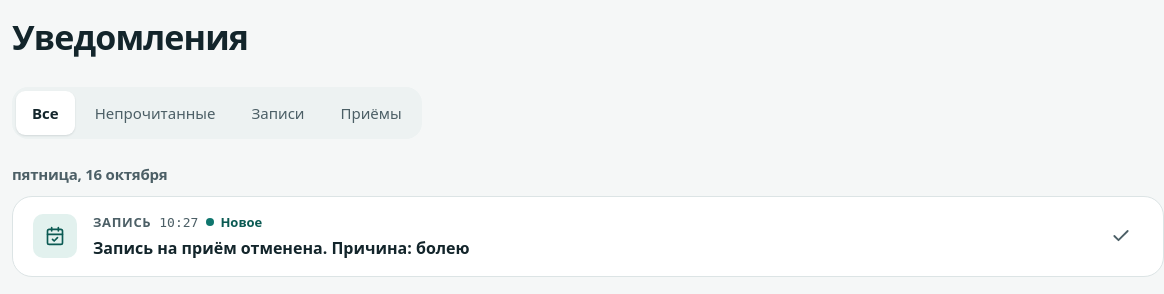
it: NotificationCenter › should keep the focus on the page and announce the empty list when the last unread notification is marked read
Click the tab "Непрочитанные" at x=155, y=113, box [79,91,231,135]
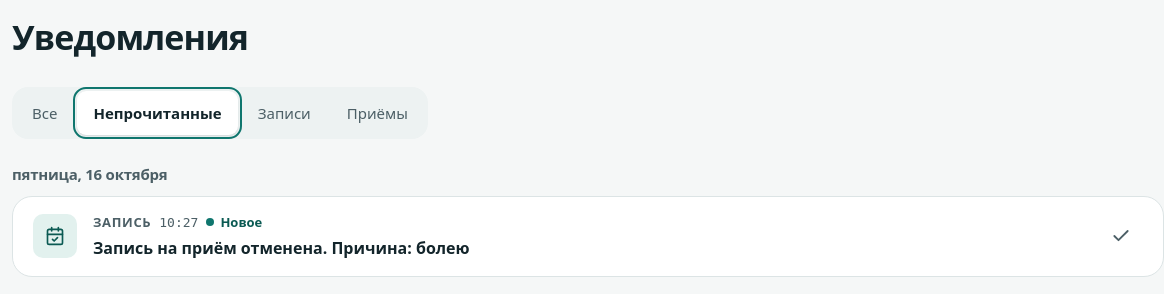
Click the button named "Отметить прочитанным" at x=1121, y=236, box [1099,214,1143,258]
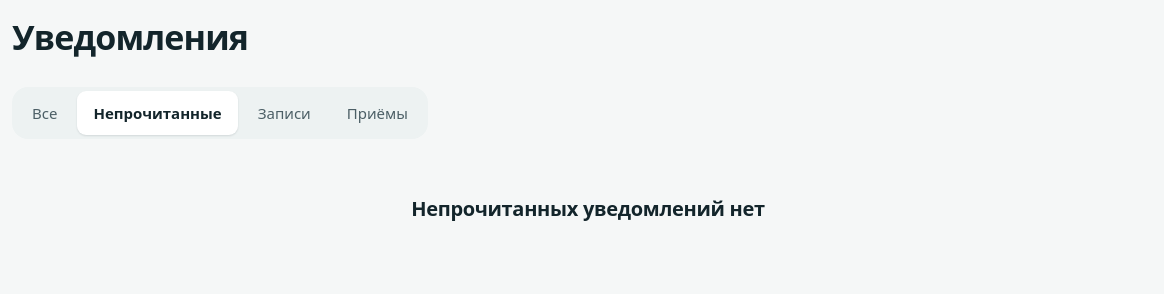
Expected: the heading "Непрочитанных уведомлений нет" is shown, [396,195,780,223]
Expected: the message "Непрочитанных уведомлений нет" is shown, [411,195,765,222]
